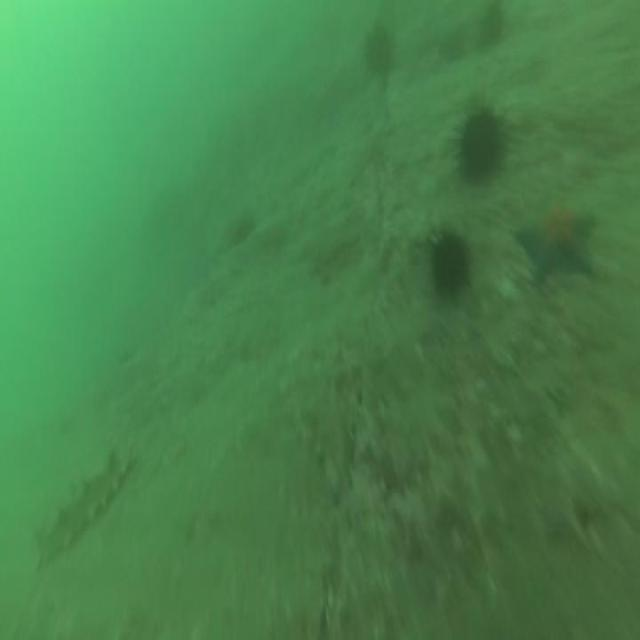echinus: (452, 100, 507, 188), (426, 224, 474, 305), (362, 19, 394, 79), (478, 0, 505, 49)
holothurian: (30, 438, 134, 582)
starfish: (510, 196, 598, 291)
